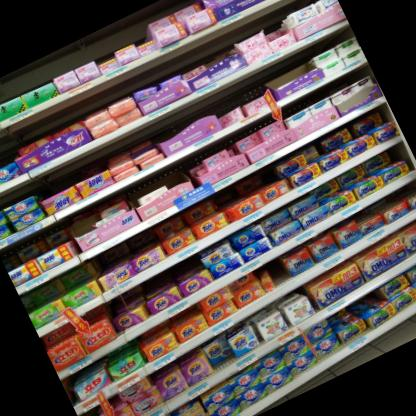empty_space: (265, 51, 321, 96), (262, 255, 296, 290)
